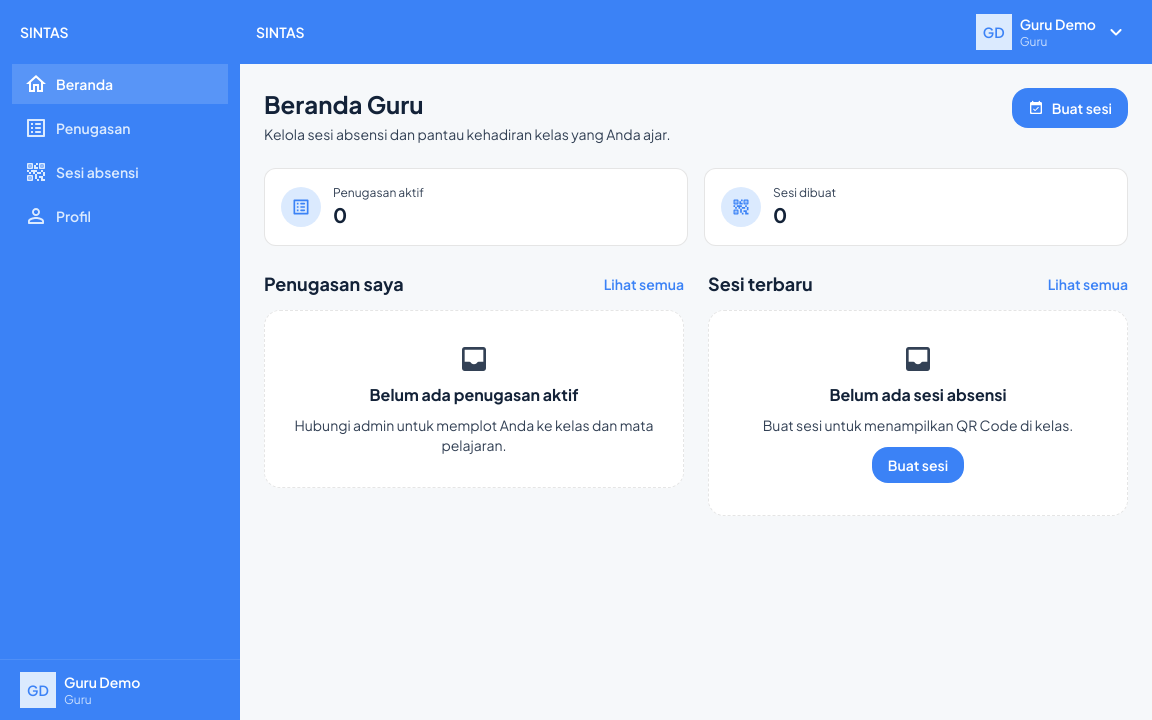
Test: app shell dan navigasi per role › keluar mengarahkan kembali ke halaman masuk
expect the heading "Beranda Guru" is shown: met, box top-left (264, 89), bottom-right (424, 119)
Click the button with aria-label "Menu akun" at [1052, 32], box top-left (968, 10), bottom-right (1136, 54)
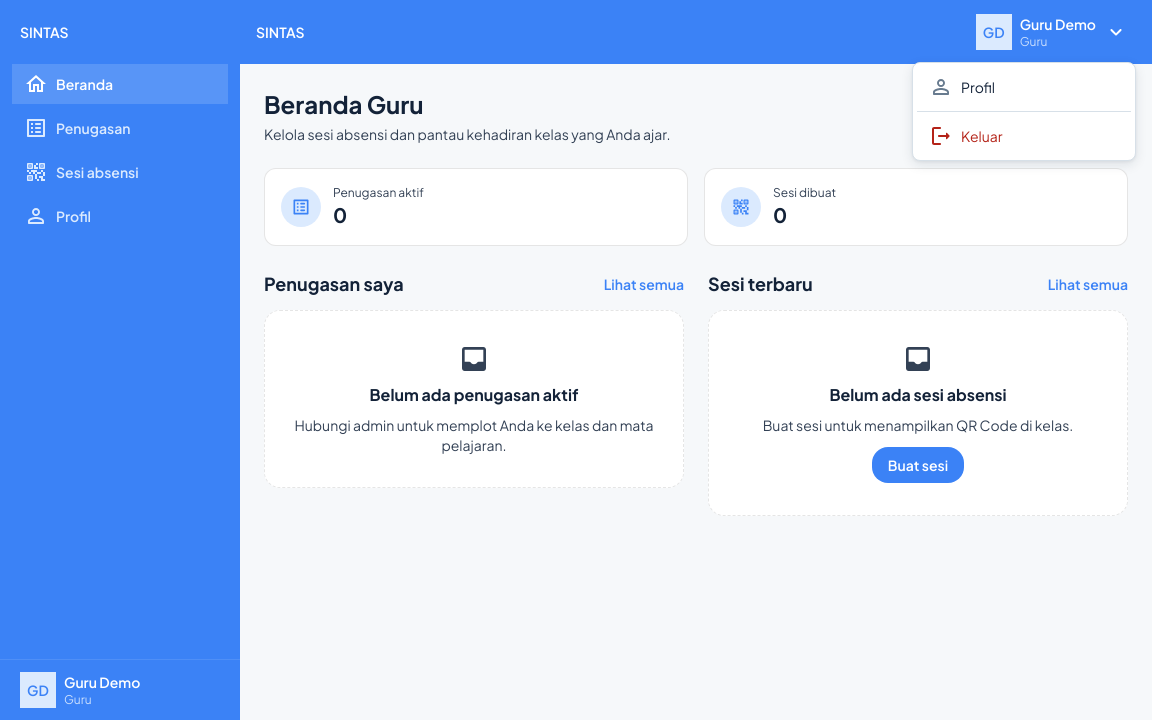
Click the menu item "Keluar" at [1024, 136], box top-left (917, 116), bottom-right (1131, 156)
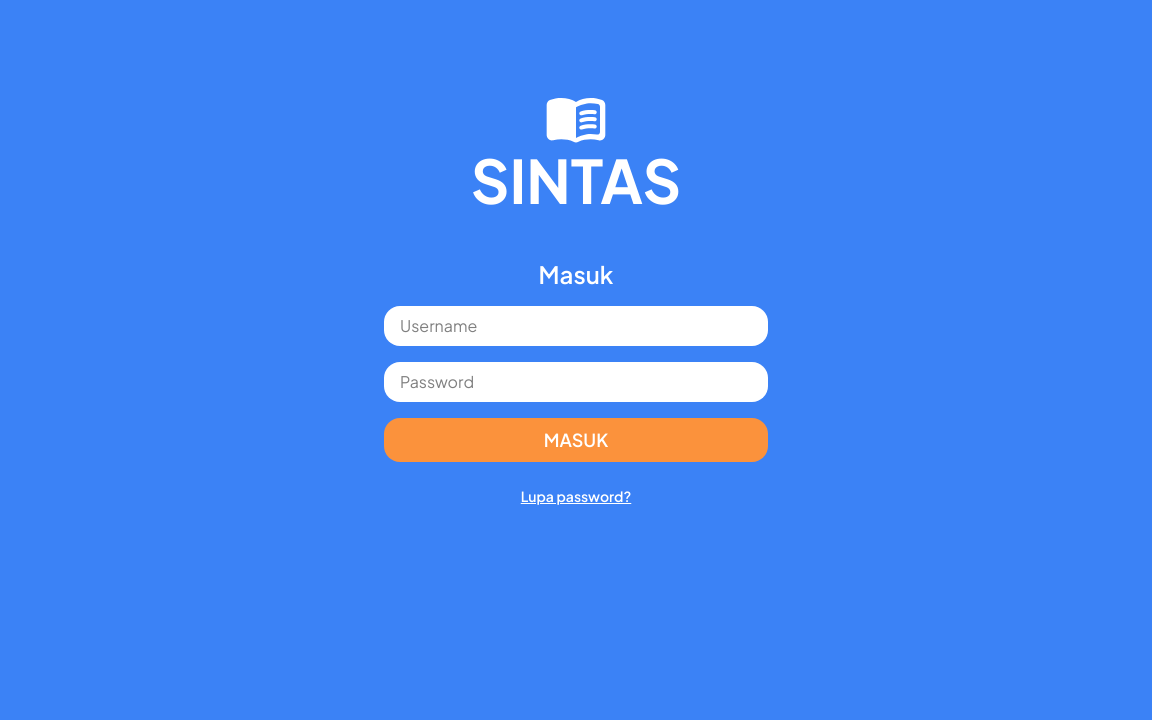
expect the heading "Masuk" is shown: met, box top-left (539, 258), bottom-right (613, 290)
